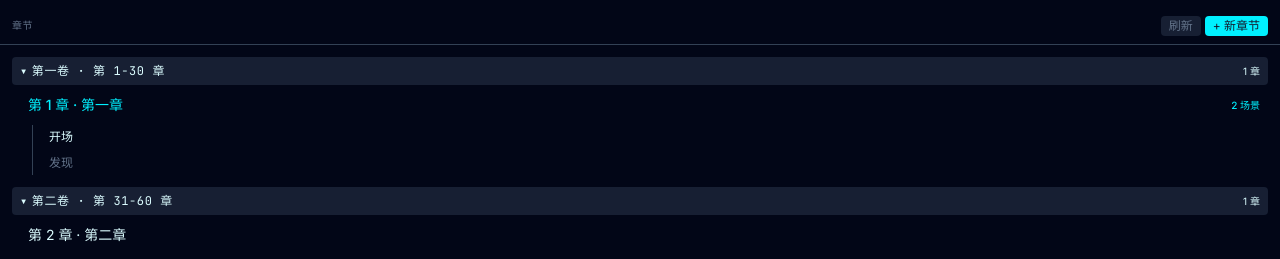
Test: ChapterTreePanel › clicking a volume header toggles its open state
expect the button with test id "chapter-1" is shown: met, box [20,89,1268,121]
# Close volume 1.
Click the button with test id "volume-第一卷-header" at x=51, y=71, box [12,57,1268,85]
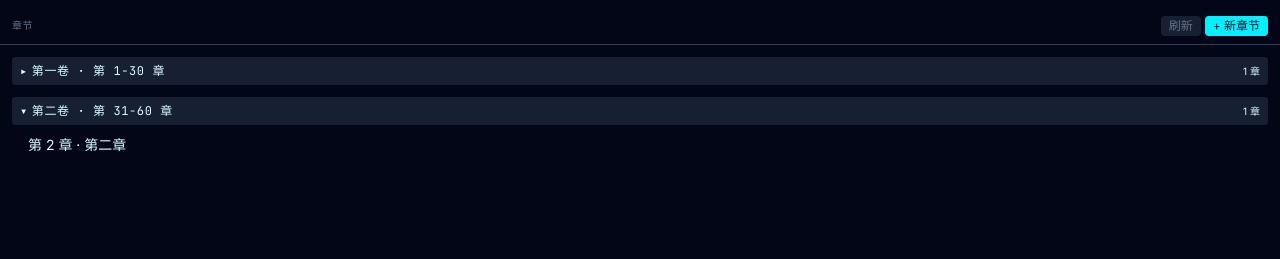
expect the button with test id "chapter-1" is gone: met
